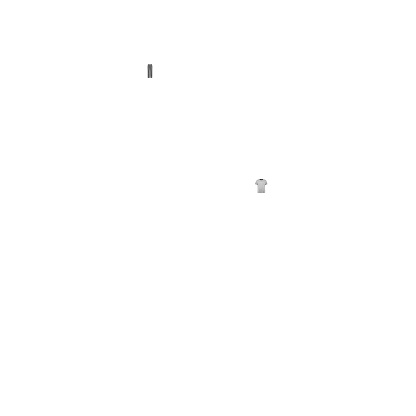T-shirt/top: (254, 179, 268, 193)
Trouser: (143, 64, 157, 78)
